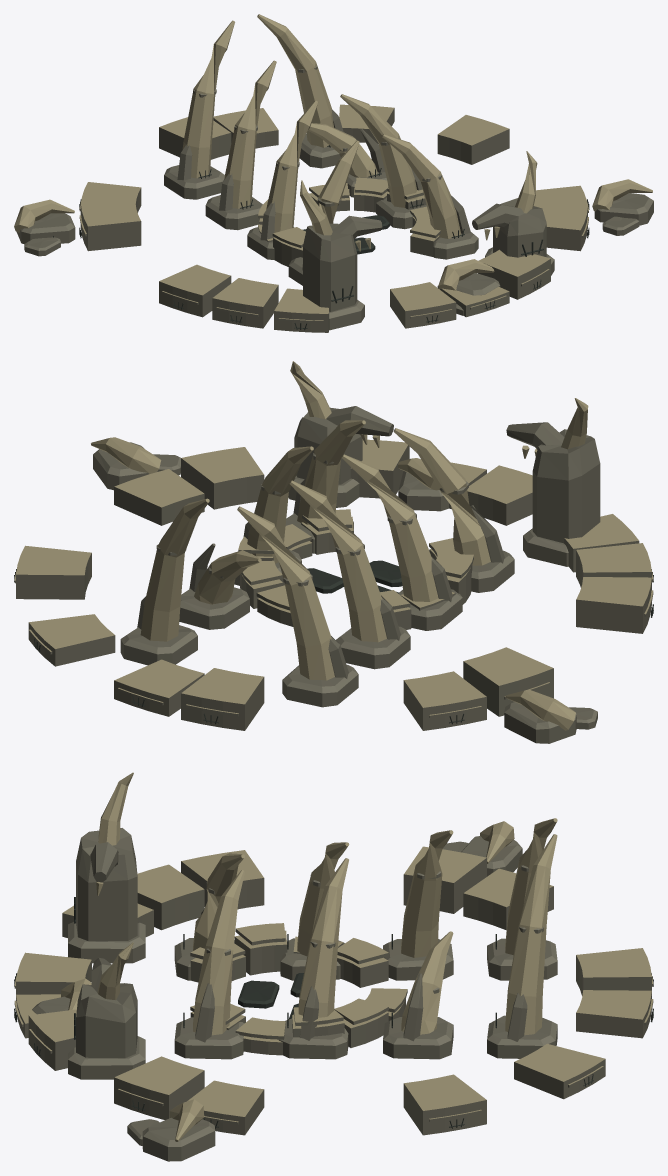
File: dragon-ruins.glb
3 renders of one model, top to bottom at view 1: azimuth 30°, elevation 25°; view 2: azimuth 150°, elevation 25°; view 3: azimuth 270°, elevation 25°, orthographic. The views are drawn at different scales.
Parts seen in each view (by area): view 1: ring-2, maw-west, ring-1, spine-0-west, spine-1-west, nest, ring-3, maw-east, spine-3-east, spine-0-east, ring-5, spine-2-west (+8 smaller); view 2: maw-west, nest, ring-2, ring-3, spine-0-west, ring-4, ring-5, ring-0, spine-1-west, spine-0-east, spine-2-west, spine-3-west (+8 smaller); view 3: nest, maw-west, spine-0-east, ring-5, maw-east, ring-0, spine-3-east, ring-4, spine-2-east, ring-2, ring-1, spine-1-west (+8 smaller).
Boxes of the visible parts, x1,y1,x2,y2 form: ring-2: (159,264,328,332); maw-west: (300,180,382,330); ring-1: (390,249,550,328); spine-0-west: (164,20,234,199); spine-1-west: (205,60,276,230); nest: (258,177,440,266); ring-3: (79,182,141,251); maw-east: (472,151,554,275); spine-3-east: (382,134,478,259); spine-0-east: (257,14,343,168); ring-5: (339,104,509,164); spine-2-west: (247,100,318,259); maw-west: (506,398,600,566); nest: (238,509,473,629); ring-2: (564,514,653,633); ring-3: (403,647,553,730); spine-0-west: (237,506,358,707); ring-4: (114,659,264,730); ring-5: (14,545,115,666); ring-0: (114,447,264,525); spine-1-west: (289,480,410,669); spine-0-east: (120,498,209,665); spine-2-west: (341,454,462,630); spine-3-west: (393,428,514,592); nest: (190,923,407,1055); maw-west: (68,772,145,963); spine-0-east: (487,834,557,1058); ring-5: (403,1043,605,1135); maw-east: (68,942,145,1079); ring-0: (114,1056,264,1135); spine-3-east: (174,870,244,1059); ring-4: (576,948,653,1038); spine-2-east: (279,858,348,1059); ring-2: (62,850,264,937); ring-1: (14,952,91,1070); spine-1-west: (383,830,453,980).
Size of the model in its own units: 33.64 by 8.98 by 28.88.
